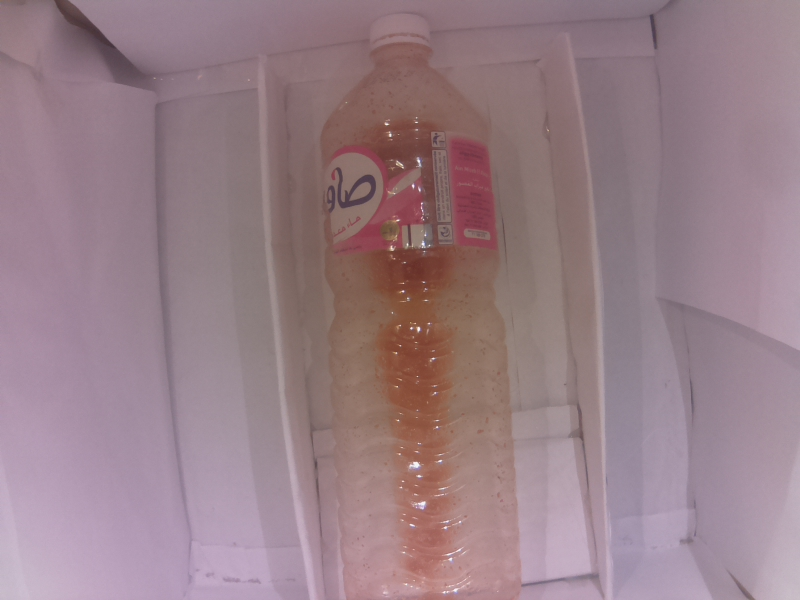botolplastik: (322, 15, 520, 600)
